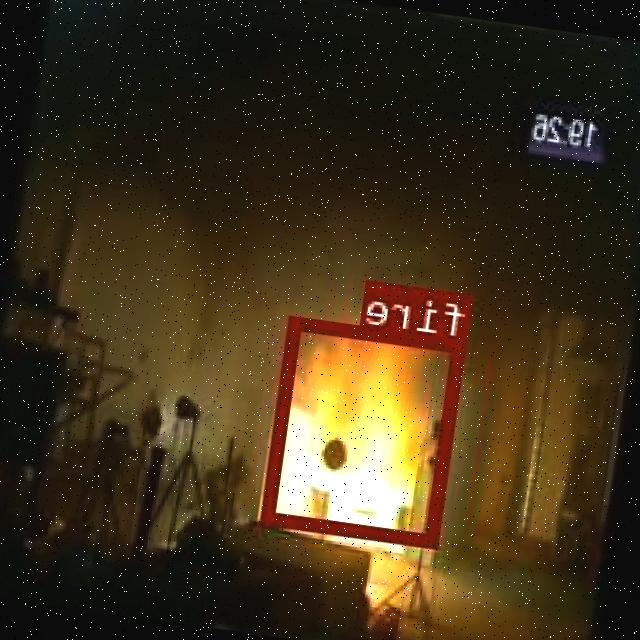fire: (262, 315, 468, 546)
